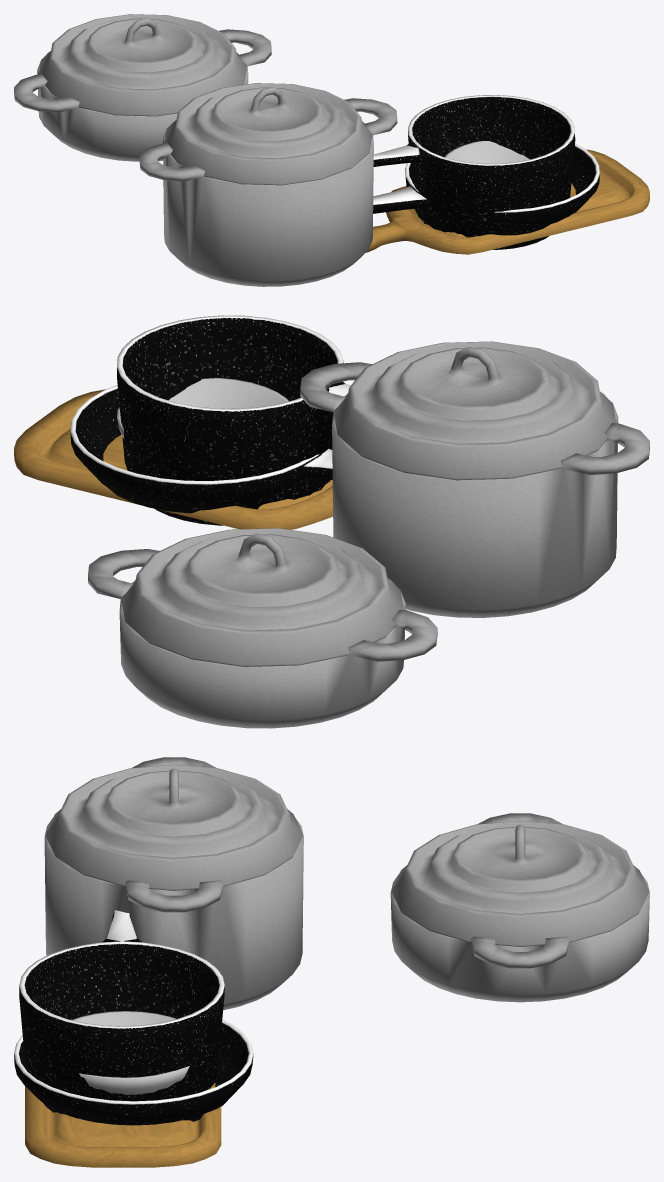
File: bowl.glb
The picture shows the model from 3 angles, top to bottom: view 1: azimuth 30°, elevation 25°; view 2: azimuth 150°, elevation 25°; view 3: azimuth 270°, elevation 25°; orthographic projection. The views are drawn at different scales.
Parts seen in each view (by area): view 1: cookingpot, pan, cookingpotpot, cookingpotpot.001, cookingpot.001, cuttingboard, stove, bowl; view 2: cookingpot, cookingpotpot.001, cookingpotpot, pan, cookingpot.001, stove, cuttingboard, bowl; view 3: pan, cookingpotpot, cookingpotpot.001, cookingpot, cookingpot.001, cuttingboard, stove, bowl.
Boxes of the visible parts, x1,y1,x2,y2 form: cookingpot: (139, 98, 397, 286); pan: (373, 95, 575, 249); cookingpotpot: (164, 83, 372, 185); cookingpotpot.001: (39, 14, 246, 116); cookingpot.001: (14, 29, 271, 161); cuttingboard: (365, 149, 649, 254); stove: (373, 143, 599, 224); bowl: (444, 141, 529, 163); cookingpot: (300, 362, 649, 617); cookingpotpot.001: (121, 528, 403, 666); cookingpotpot: (333, 341, 615, 480); pan: (117, 315, 350, 525); cookingpot.001: (88, 549, 437, 728); stove: (70, 385, 332, 513); cuttingboard: (14, 389, 332, 529); bowl: (117, 378, 288, 438); pan: (19, 910, 224, 1101); cookingpotpot: (45, 764, 302, 890); cookingpotpot.001: (391, 820, 649, 946); cookingpot: (44, 757, 303, 1010); cookingpot.001: (390, 813, 649, 1002); cuttingboard: (25, 1083, 221, 1167); stove: (14, 1019, 253, 1125); bowl: (72, 1011, 189, 1094).
Size of the model in its own units: 9.71 by 3.34 by 9.41.
6 materials, 6 textured.
